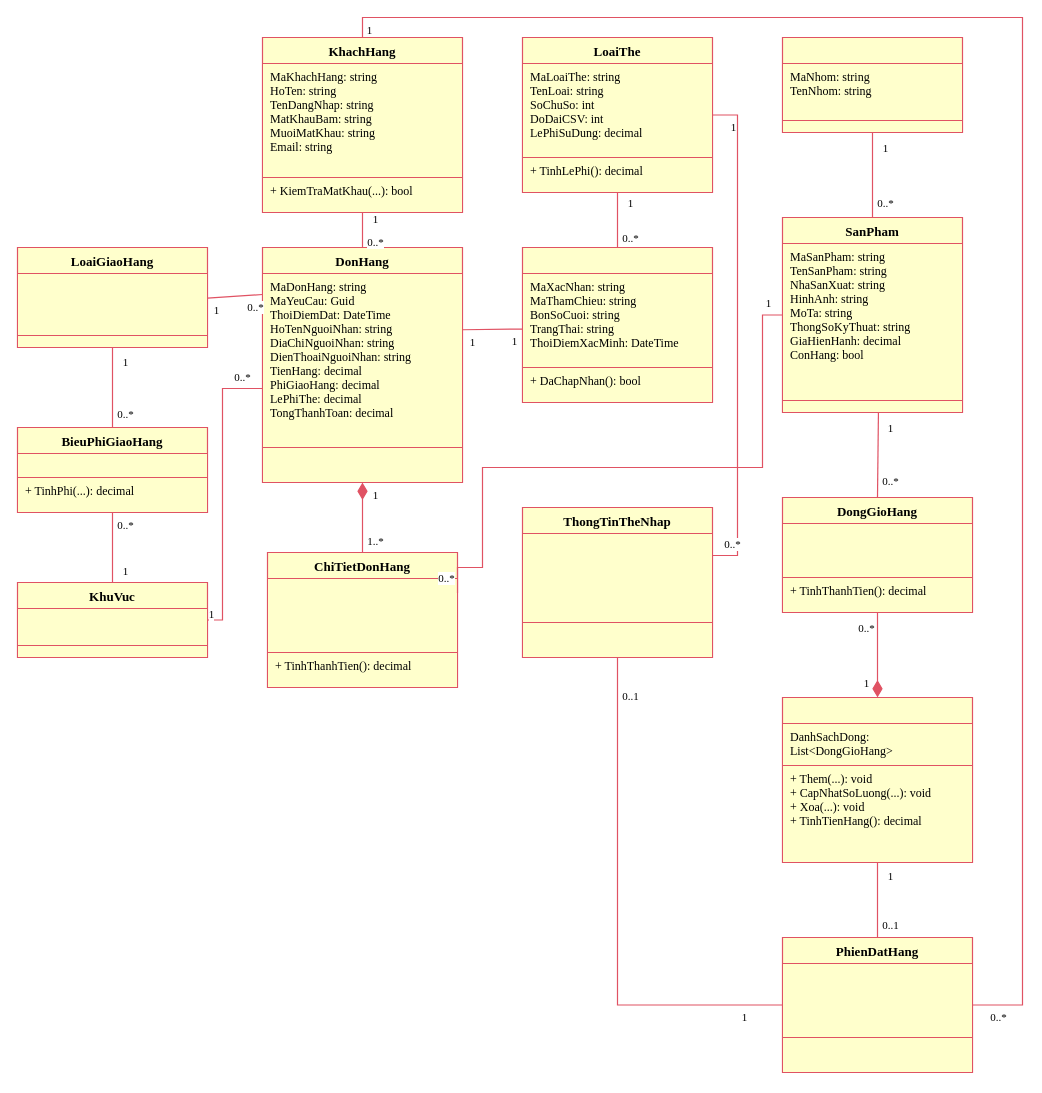
Some shapes in this 1042 by 1093 pixel diagram are drawn without their labels. Here are the shapes that lost their labels. From the top down, the box of each, then its label:
(781, 36, 963, 133): NhomSanPham
(16, 272, 208, 336): MaLoaiGiaoHang: string TenLoai: string ThoiGianXuLyGio: int
(521, 246, 713, 403): XacNhanThanhToan
(16, 452, 208, 478): PhiCoBan: decimal
(262, 446, 462, 482): + TinhTongThanhToan(): decimal
(782, 522, 972, 578): SoLuong: int DonGiaTamTinh: decimal
(522, 532, 712, 622): SoThe: string TenChuThe: string NgayHetHan: DateTime CSV: string
(16, 608, 208, 646): MaKhuVuc: string TenKhuVuc: string
(266, 578, 458, 652): MaSanPham: string TenSanPhamLucDat: string SoLuong: int DonGiaLucDat: decimal
(522, 622, 712, 658): + KiemTraDinhDang(): bool
(781, 696, 973, 863): GioHang
(782, 962, 972, 1038): MaYeuCau: Guid TrangThai: string TongDaXacNhan: decimal
(782, 1036, 972, 1072): + ChuyenTrangThai(...): void
